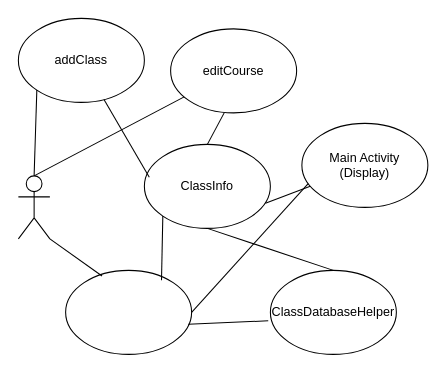
Some shapes in this 446 by 373 pixel diagram are drawn without their labels. Here are the shapes that lost their labels. From the top down, the box of each, then its label:
(17, 175, 50, 239): Actor
(65, 269, 192, 354): MyCourses
